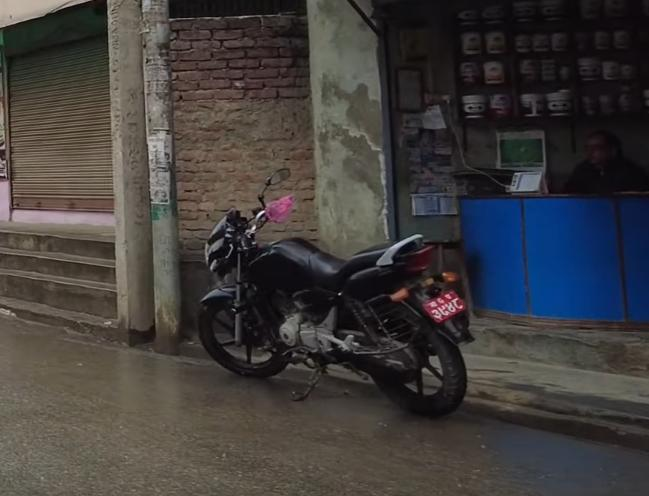bike: (191, 163, 481, 422)
